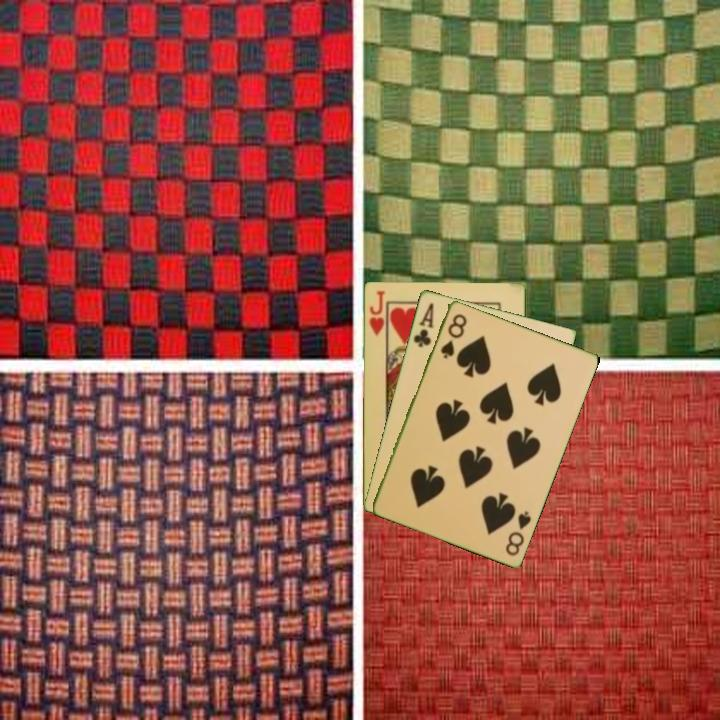8s: (437, 310, 469, 361), (502, 507, 534, 558)
Ac: (410, 299, 436, 350)
Jh: (366, 287, 387, 339)
